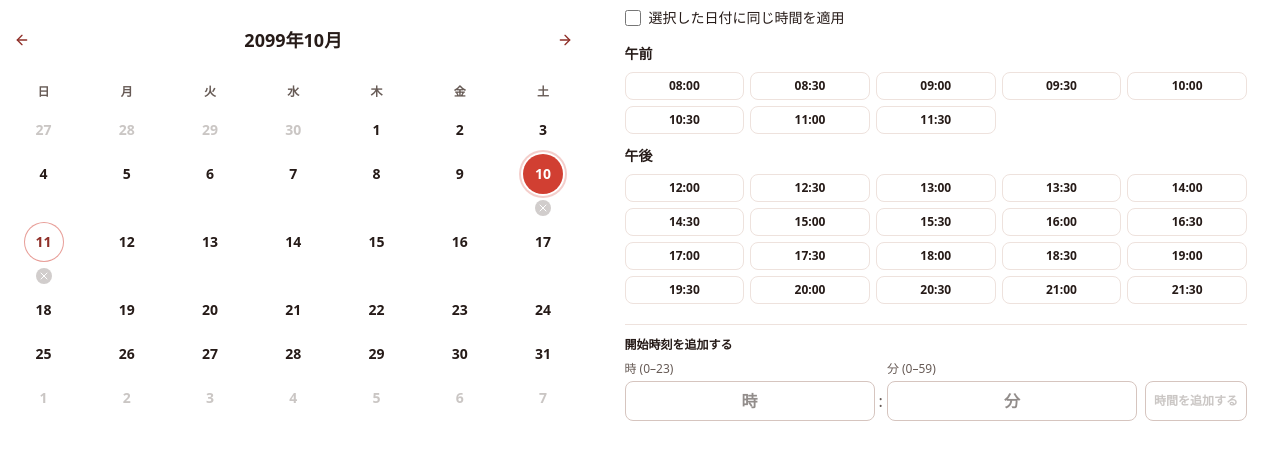
Test: schedule time cards › localizes expanded groups in ja
The image size is (1262, 466).
Expected: the element "午前" is shown, [624,44,1247,134]
Expected: the element "午後" is shown, [624,146,1247,304]
Type "21" into the field labelled "時 (0–23)" at x=750, y=401, box [624,381,875,421]
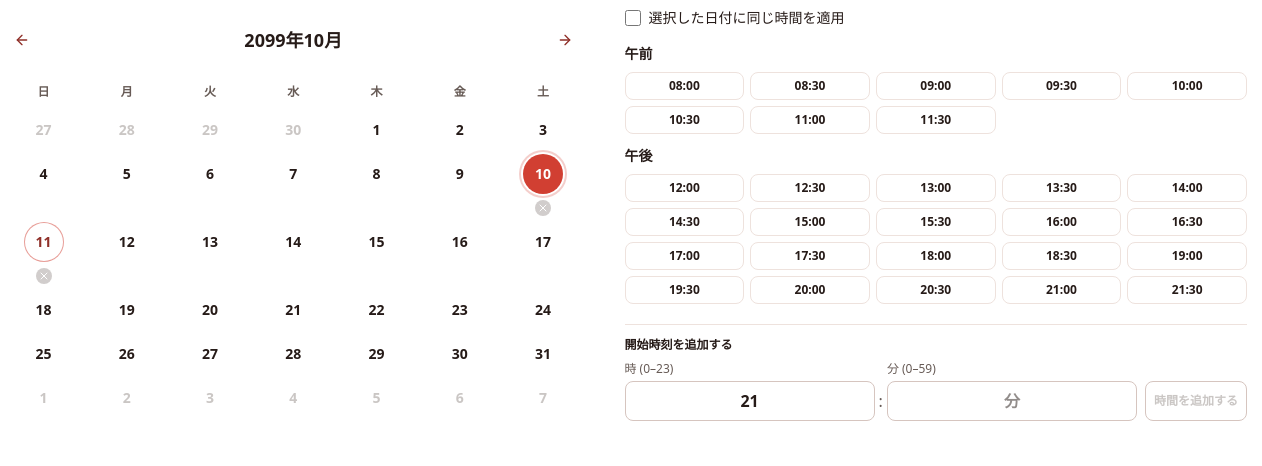
Type "53" into the field labelled "分 (0–59)" at x=1012, y=401, box [887,381,1137,421]
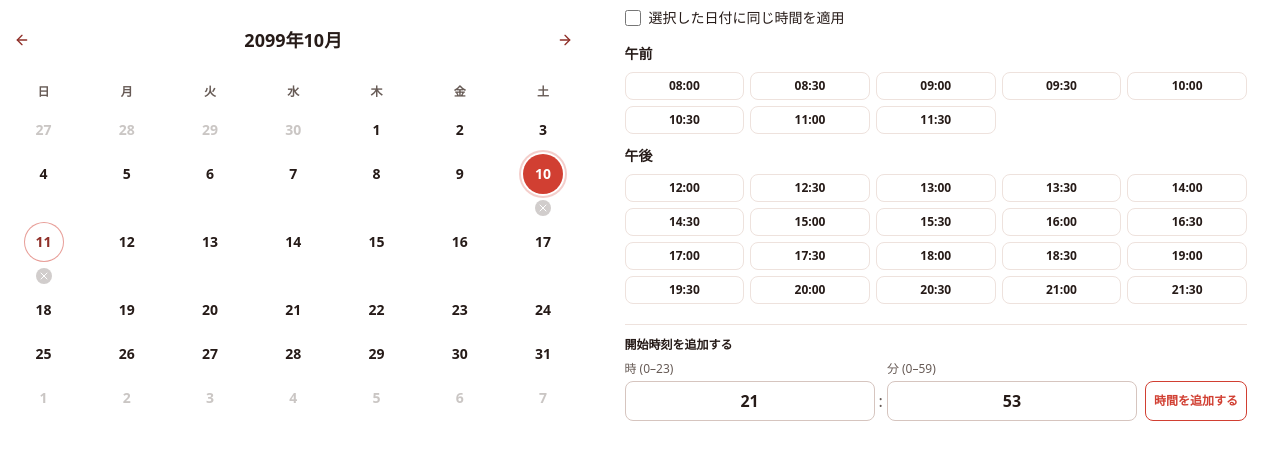
Click the button "時間を追加する" at x=1196, y=401, box [1145,381,1247,421]
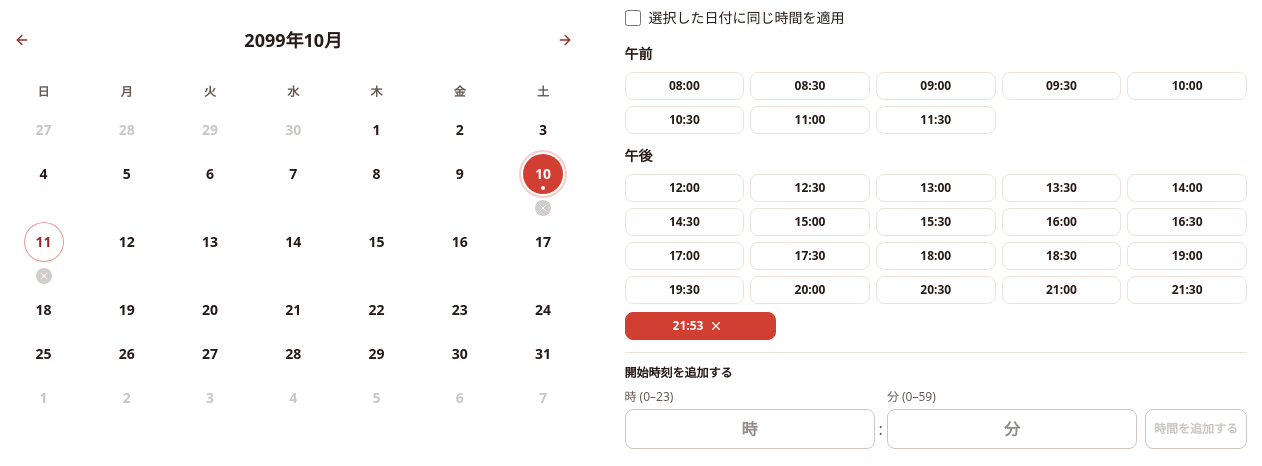
Result: the element with test id "schedule-time-2099-10-10-21:53" reads "21:53" at [673,317,704,334]
